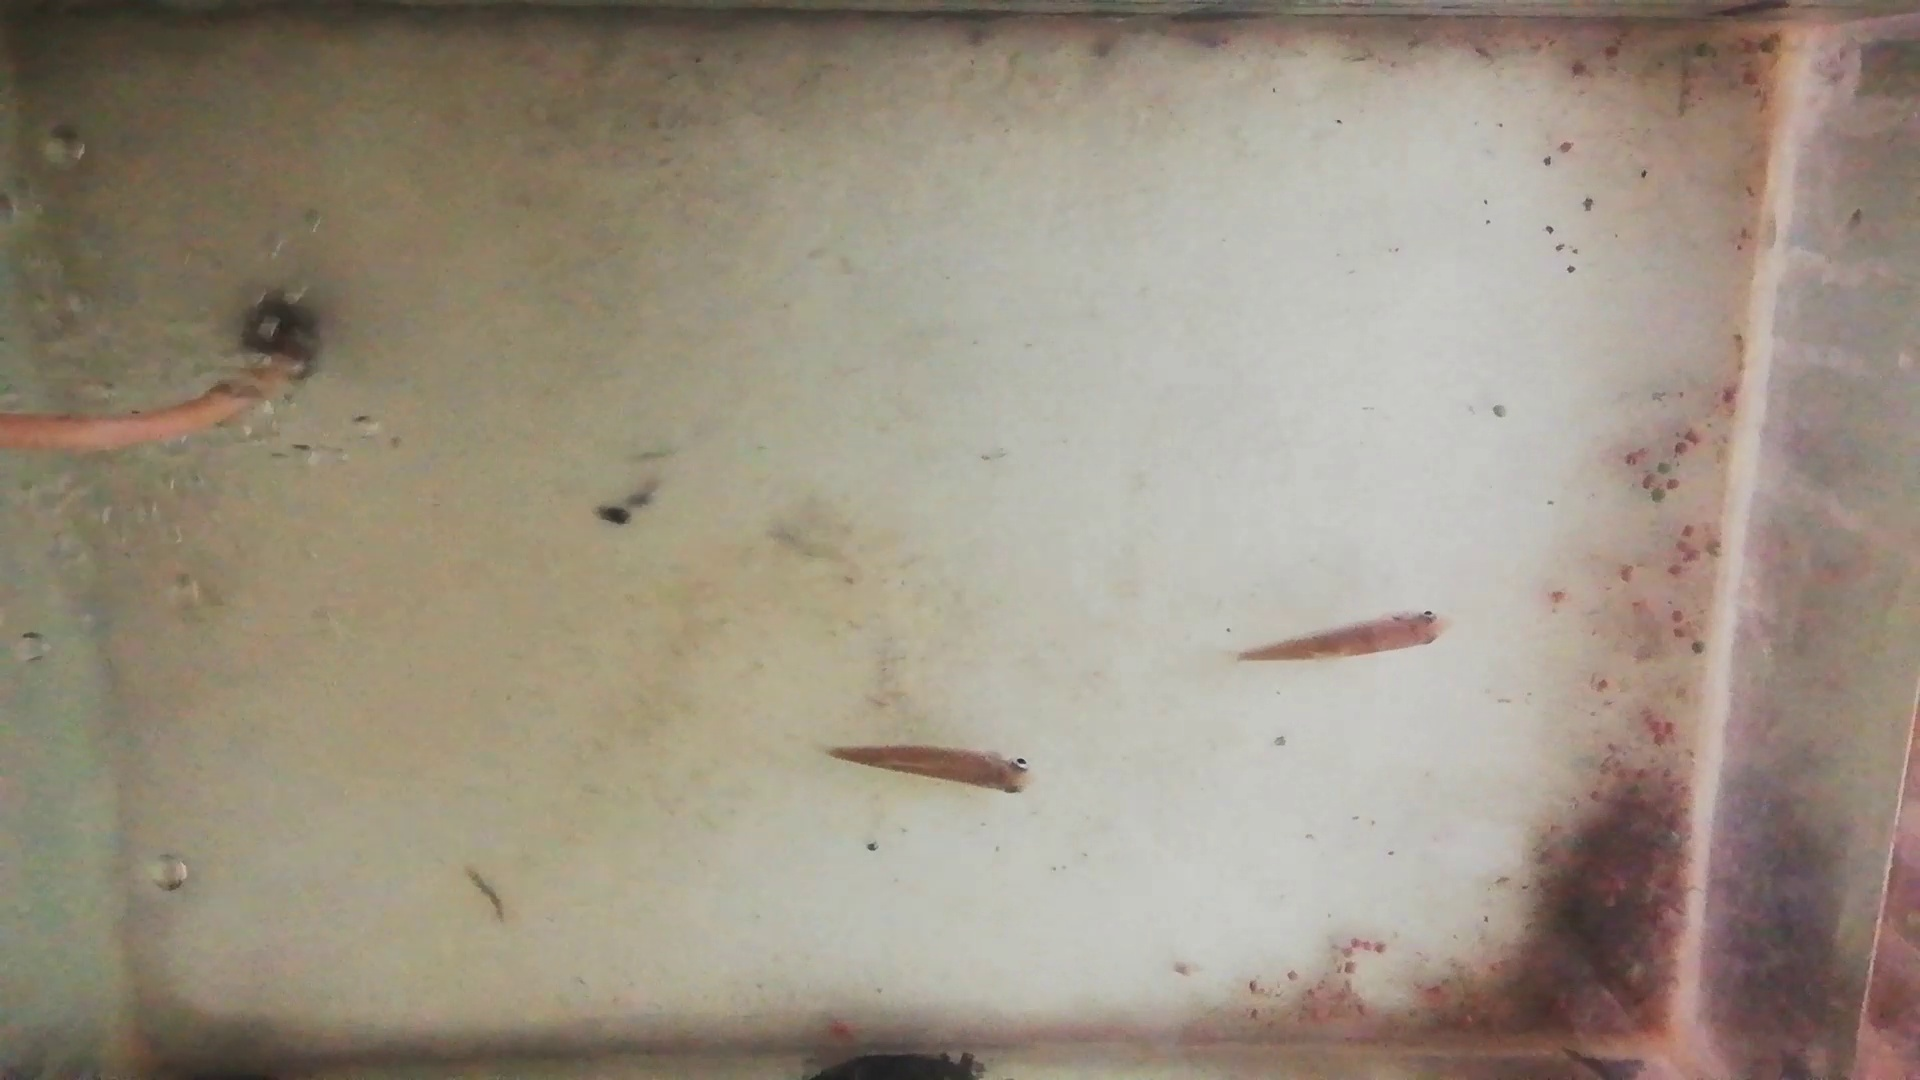fish: (1240, 607, 1452, 659), (828, 746, 1038, 793)
